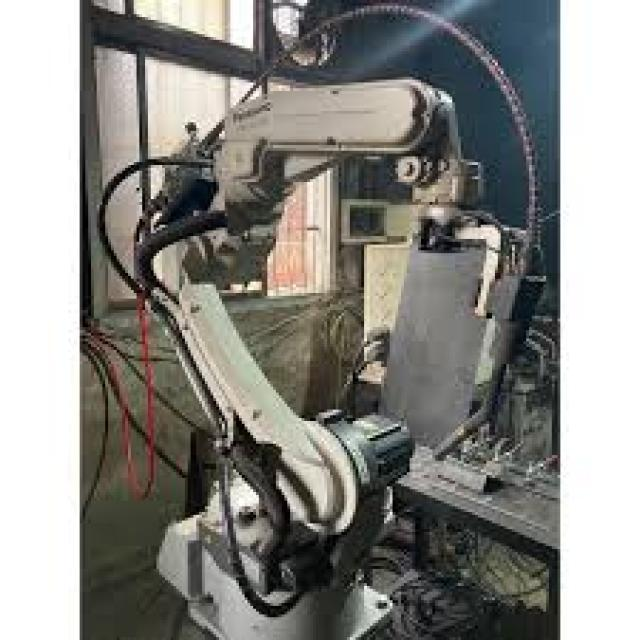Robotic-arm: (132, 67, 455, 640)
